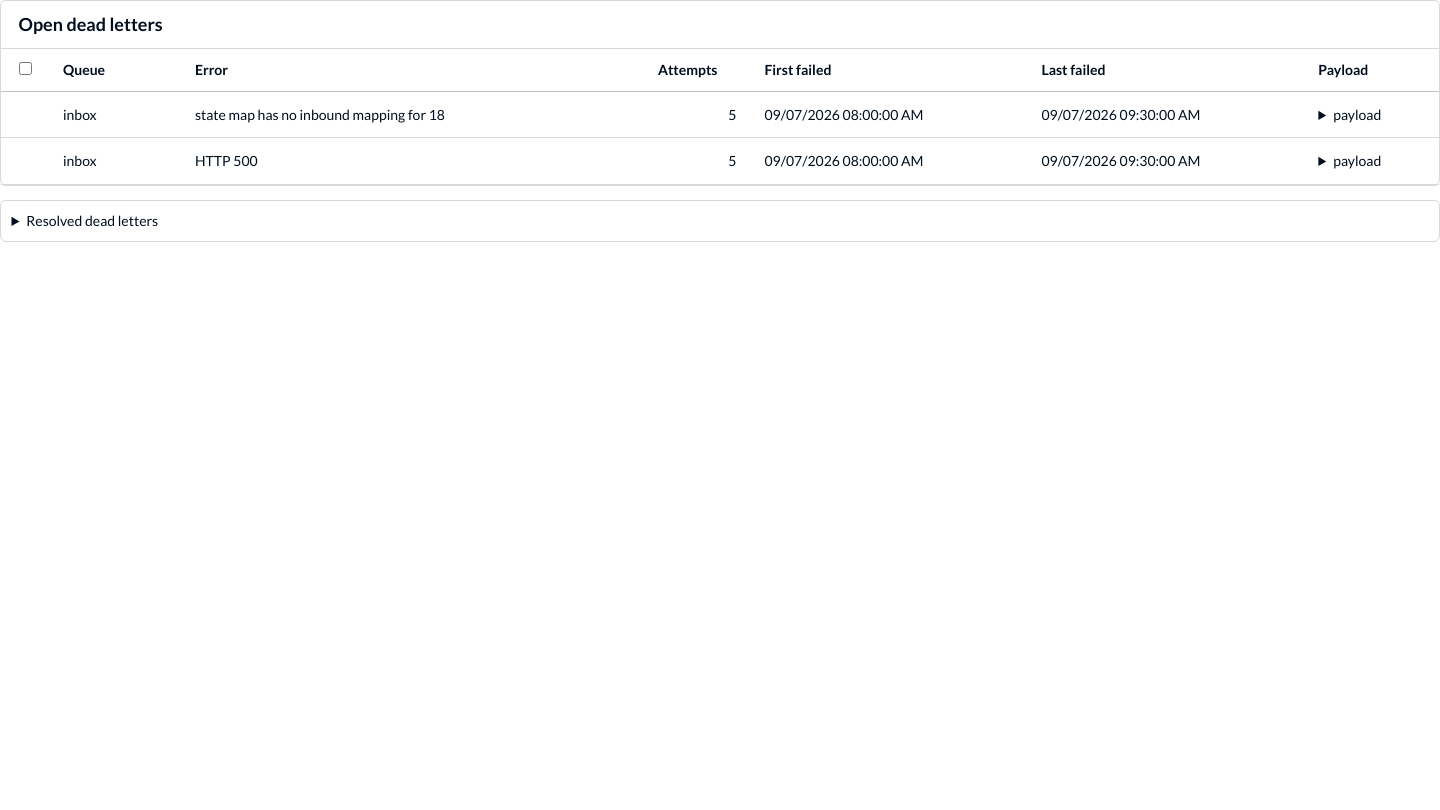
Scenario: DeadLettersTab › lists open letters by default, selects rows and replays them with an optional reason
Expected: the text "HTTP 500" is shown, [195, 152, 258, 169]
Step 1. Click the checkbox named "Select 44444444-4444-4444-8444-444444444441" → (25, 114), box [1, 91, 49, 138]
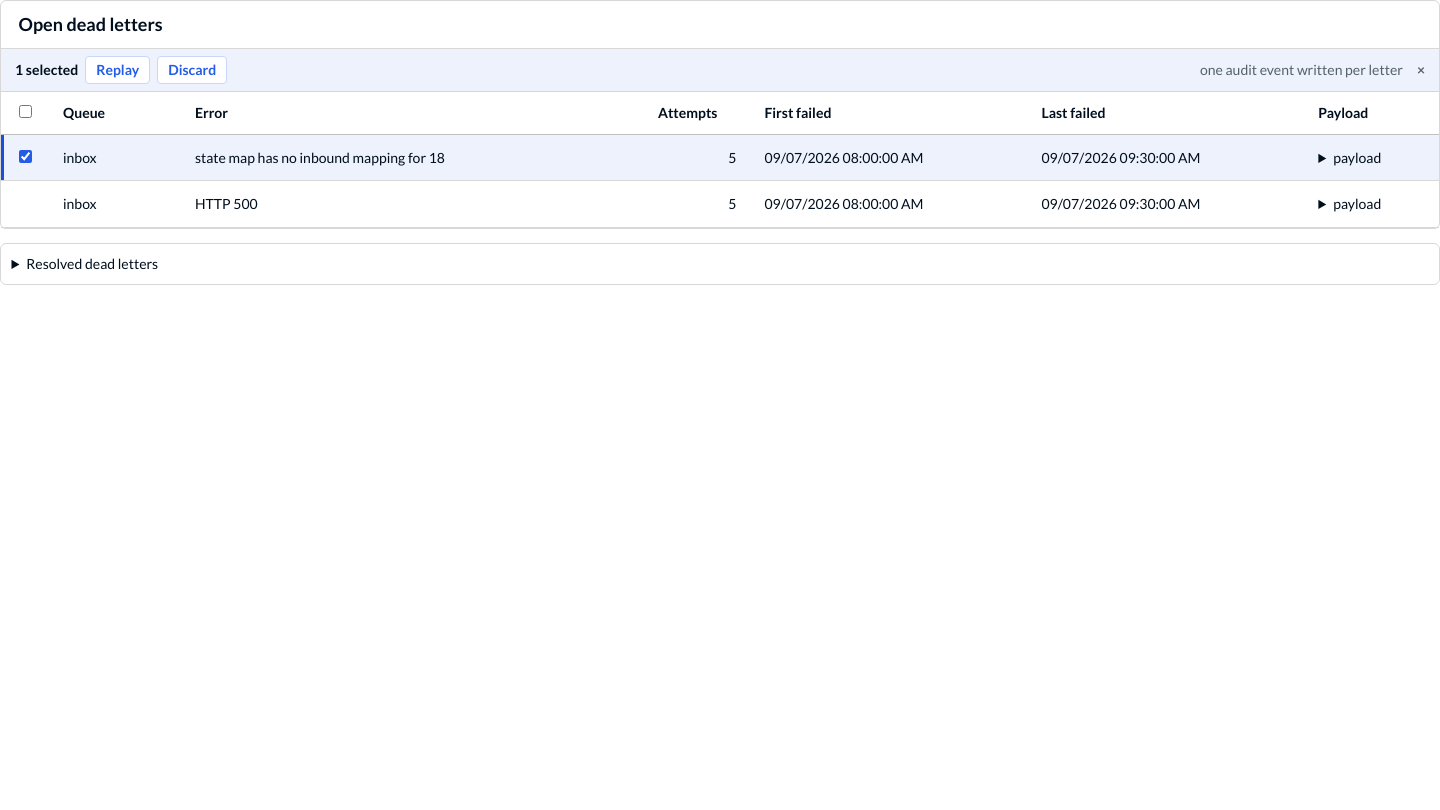
Step 2. Click the checkbox named "Select 44444444-4444-4444-8444-444444444442" → (25, 204), box [1, 181, 49, 227]
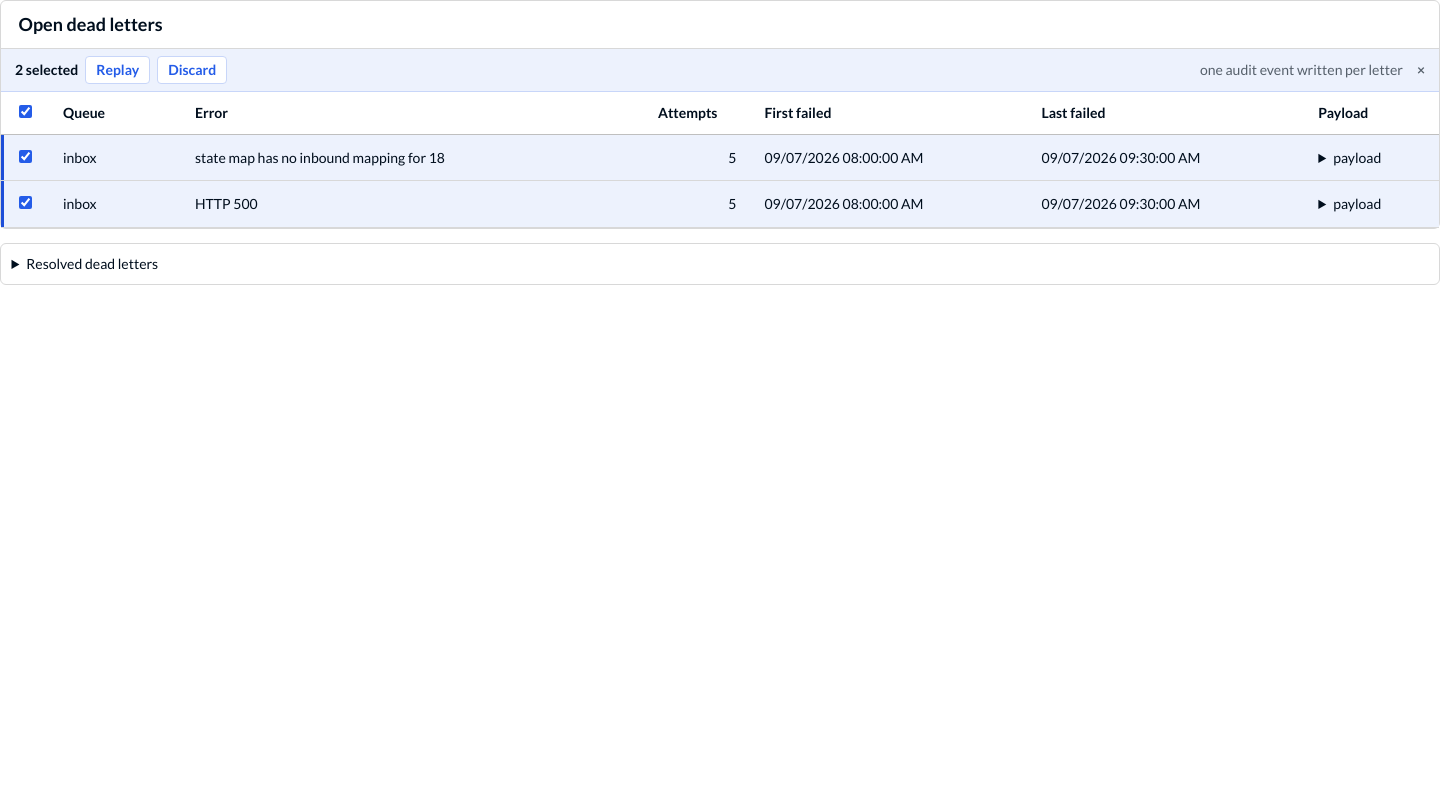
Expected: the text "2 selected" is shown, [15, 60, 78, 80]
Step 3. Click the button "Replay" → (118, 70), box [85, 56, 150, 84]
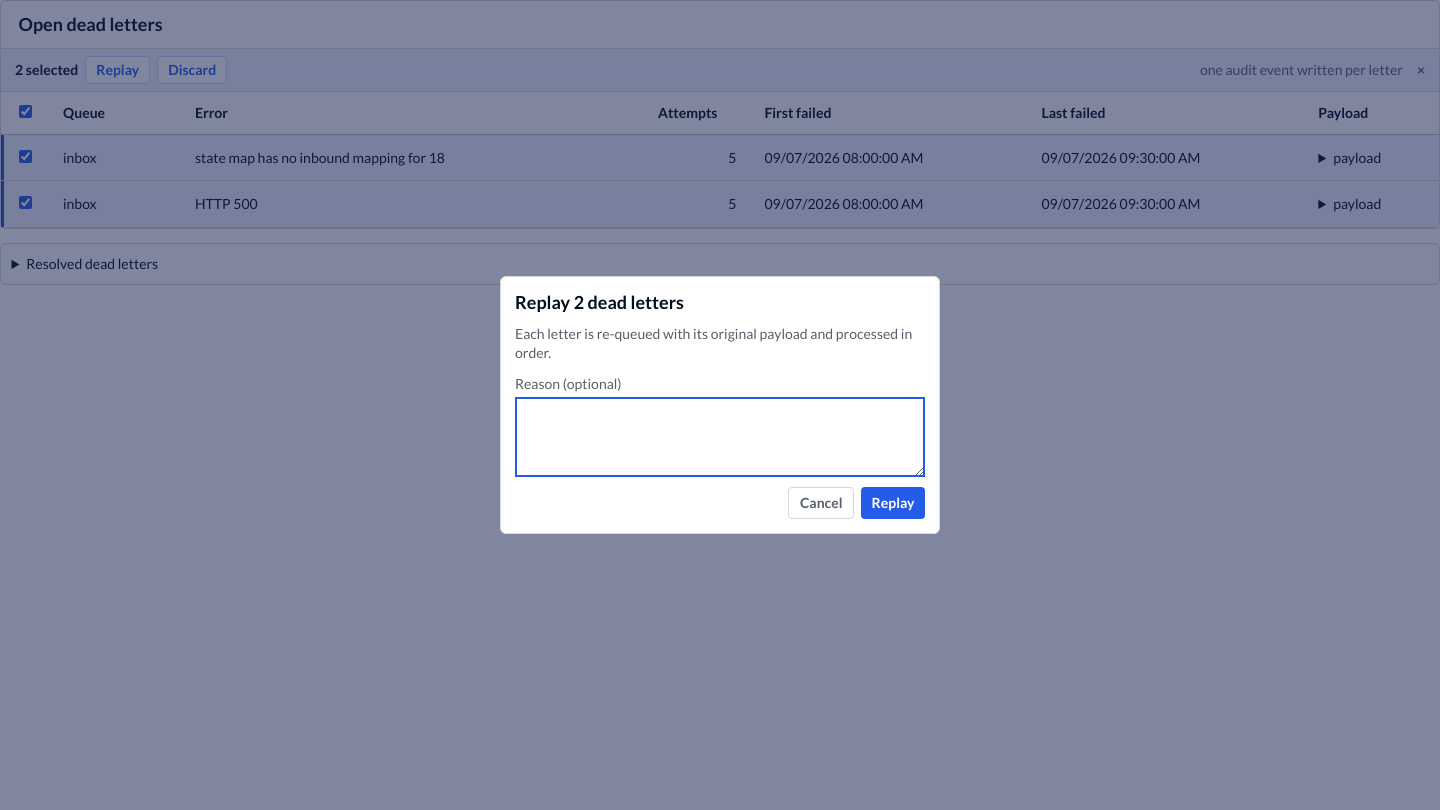
Expected: the dialog "Replay 2 dead letters" is shown, [500, 276, 940, 534]
Expected: the button "Replay" is enabled
Step 4. Click the button "Replay" → (893, 503), box [861, 487, 925, 519]
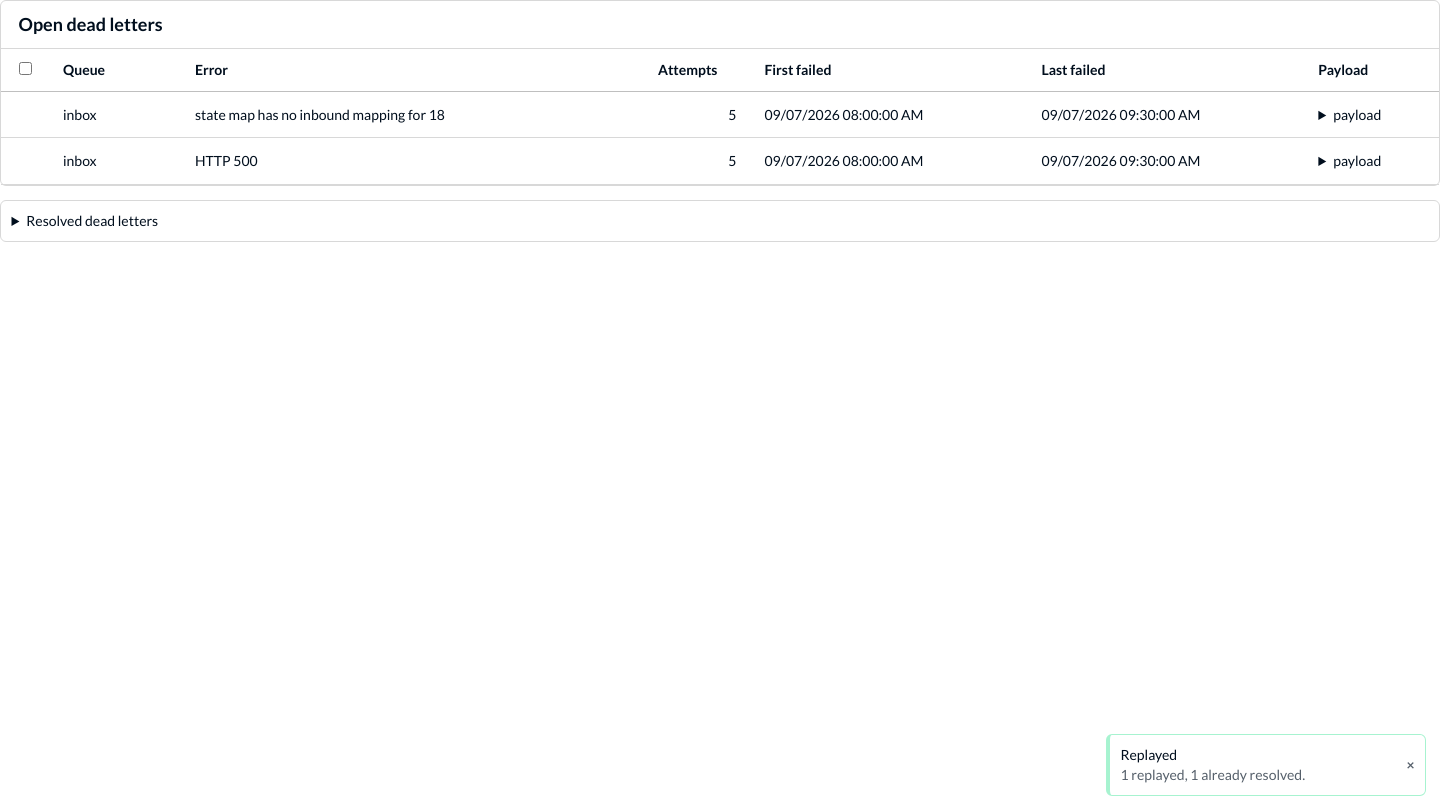
Expected: the text "1 replayed, 1 already resolved." is shown, [1120, 765, 1305, 784]
Expected: the text "2 selected" is gone
